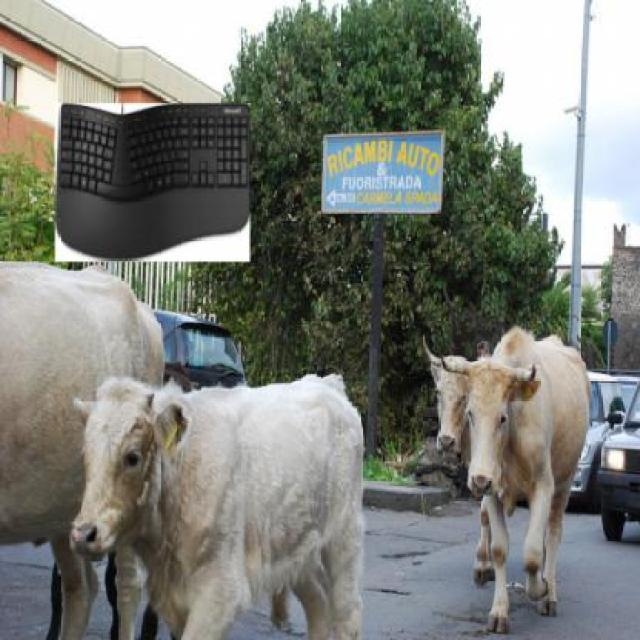keyboard: (55, 109, 254, 262)
